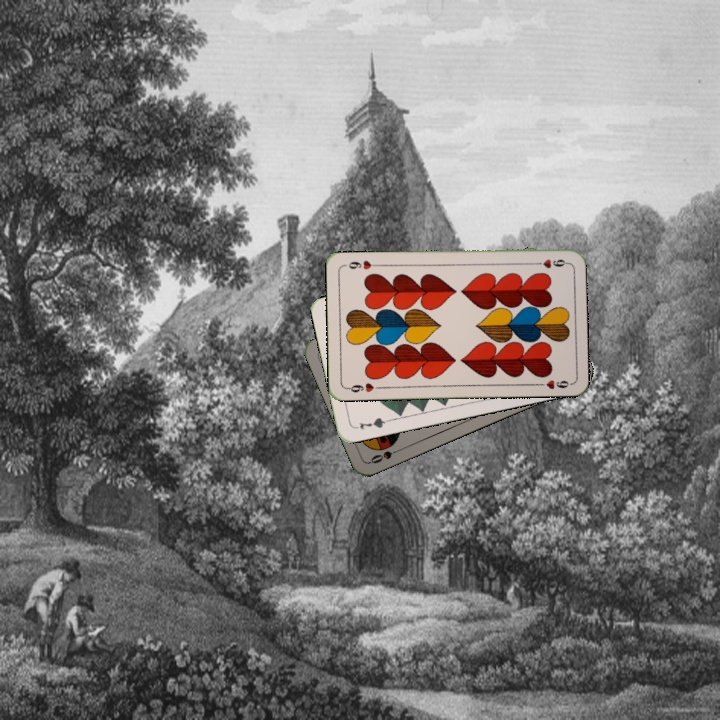G7: (351, 413, 391, 432)
H9: (343, 379, 384, 395), (529, 255, 570, 271)
SO: (366, 444, 405, 466)
